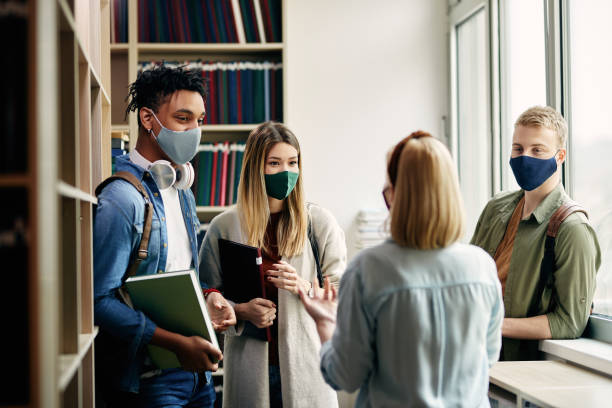with mask: (140, 69, 211, 170), (493, 113, 572, 195), (244, 124, 318, 210)
